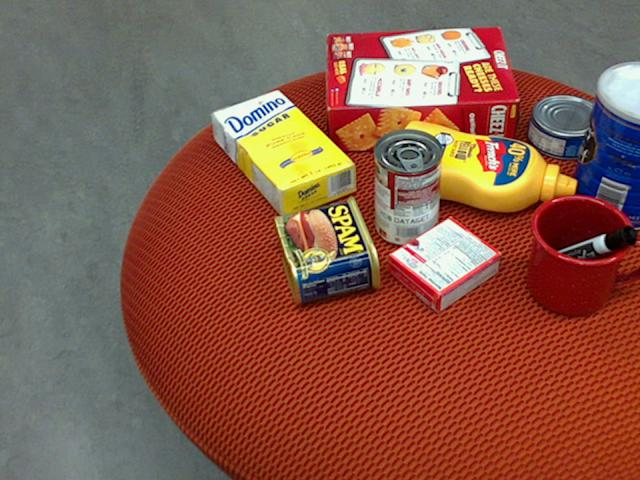cracker_box: (326, 25, 518, 151)
gelatin_box: (385, 218, 501, 314)
large_marker: (532, 223, 638, 275)
master_chef_can: (568, 61, 639, 230)
mug: (526, 194, 639, 316)
mustard_bottle: (388, 120, 575, 212)
potted_meat_can: (272, 195, 381, 304)
sugar_box: (210, 88, 356, 220)
tomato_soup_can: (372, 127, 442, 245)
tuna_fish_can: (525, 94, 603, 158)
